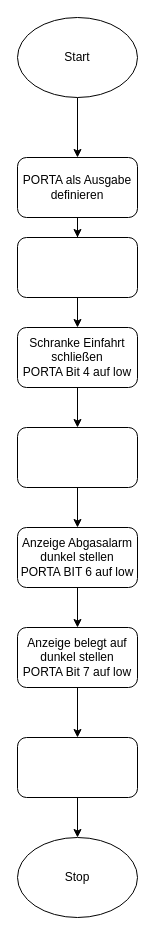
Image size: 155x935. Some labels were removed from this diagram. Each missing label, with the centre of its shape:
"PORTD als Eingabe definieren" goes at point (77, 267).
"Schranke Ausfahrt schließen PORTA Bit 5 auf low" goes at point (77, 457).
"Zähler auf 0 setzen PORTA Bit 0-3 auf low" goes at point (77, 767).
